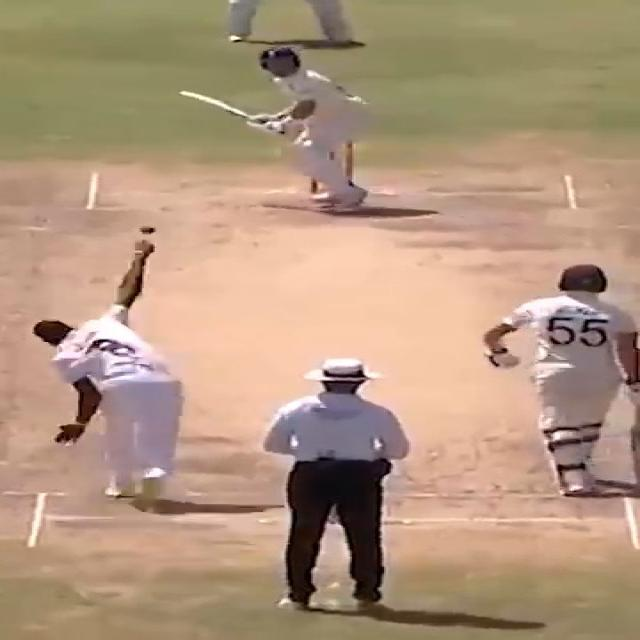Cricket ball: (138, 225, 158, 235)
